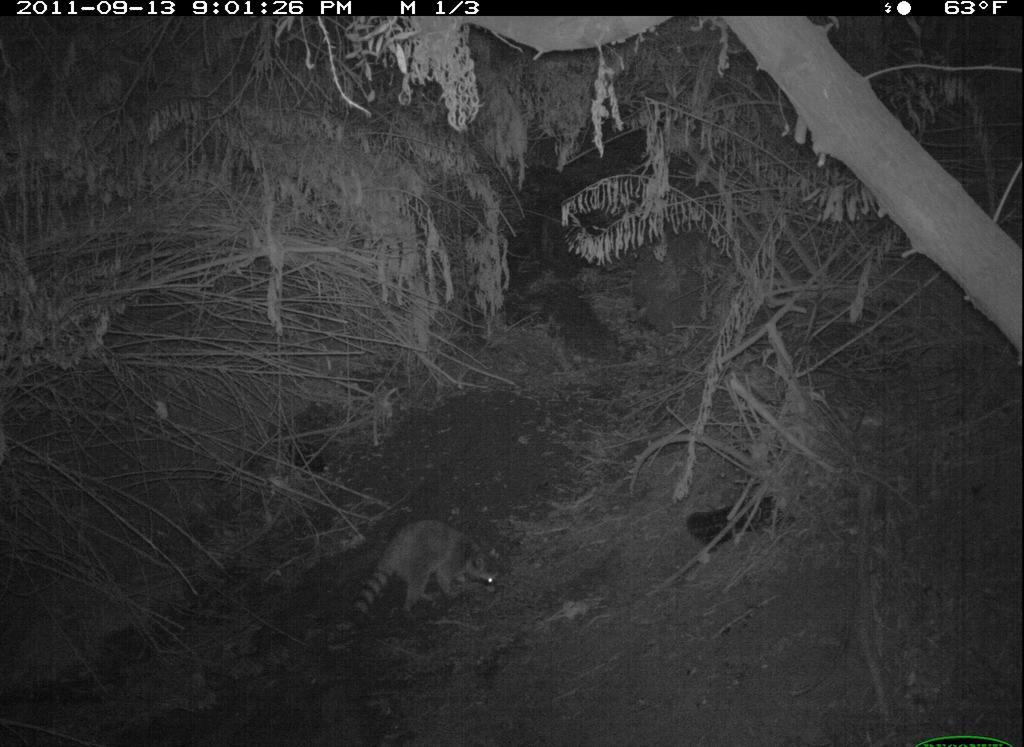raccoon: (338, 495, 539, 637)
